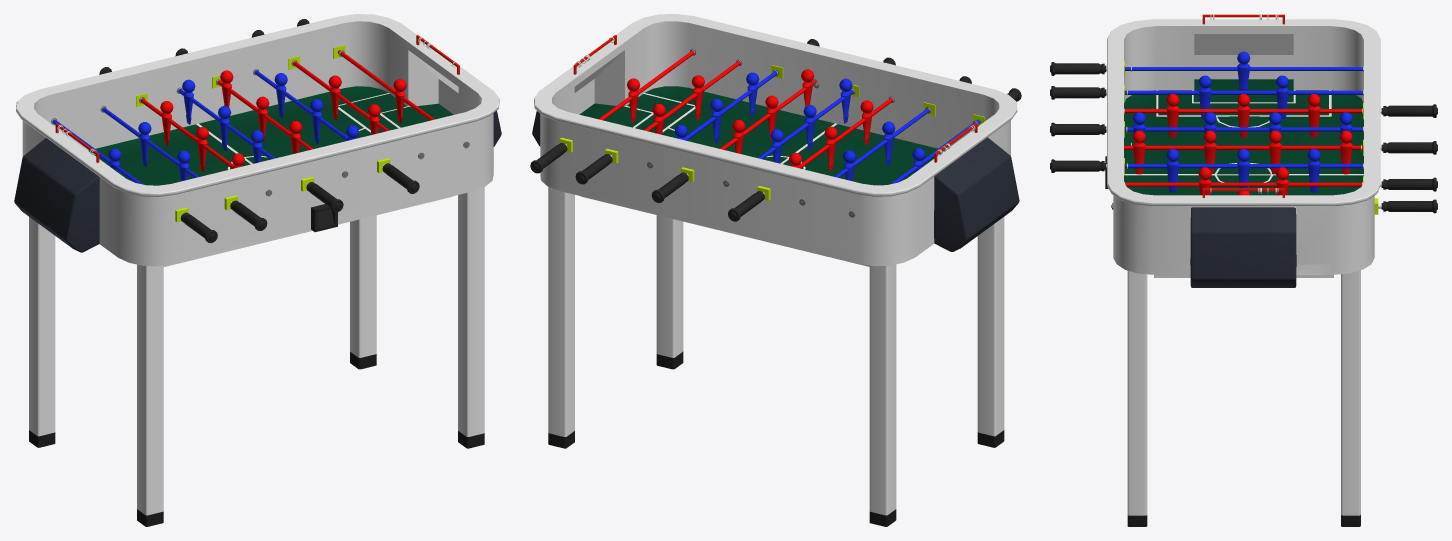
Rendered from MeteGol.fbx.
3 renders of one model, left to right at view 1: azimuth 30°, elevation 25°; view 2: azimuth 150°, elevation 25°; view 3: azimuth 270°, elevation 25°, orthographic.
Visible parts, largest first — view 1: MeteGol; view 2: MeteGol; view 3: MeteGol.
Part boxes in pixels (bbox=[...]): MeteGol: bbox=[14, 14, 501, 526]; MeteGol: bbox=[530, 14, 1021, 526]; MeteGol: bbox=[1050, 14, 1437, 526].
Size of the model in its own units: 4.63 by 3.54 by 3.61.
